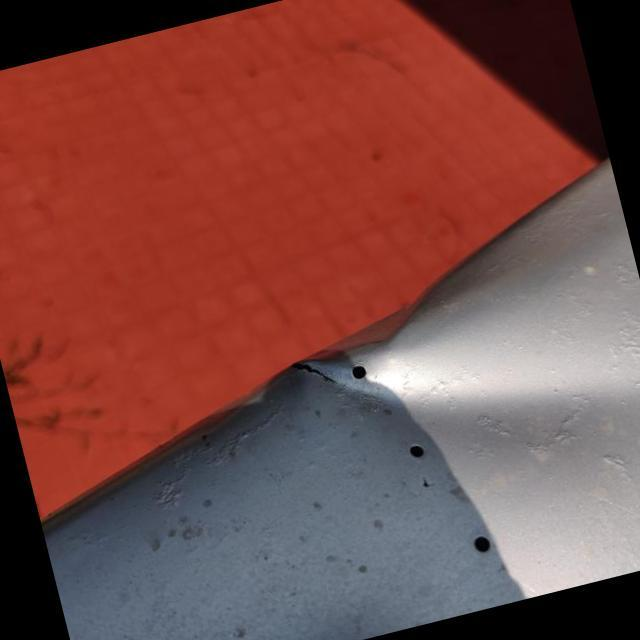Dent: (243, 165, 640, 521)
Rupture: (275, 331, 347, 406)
